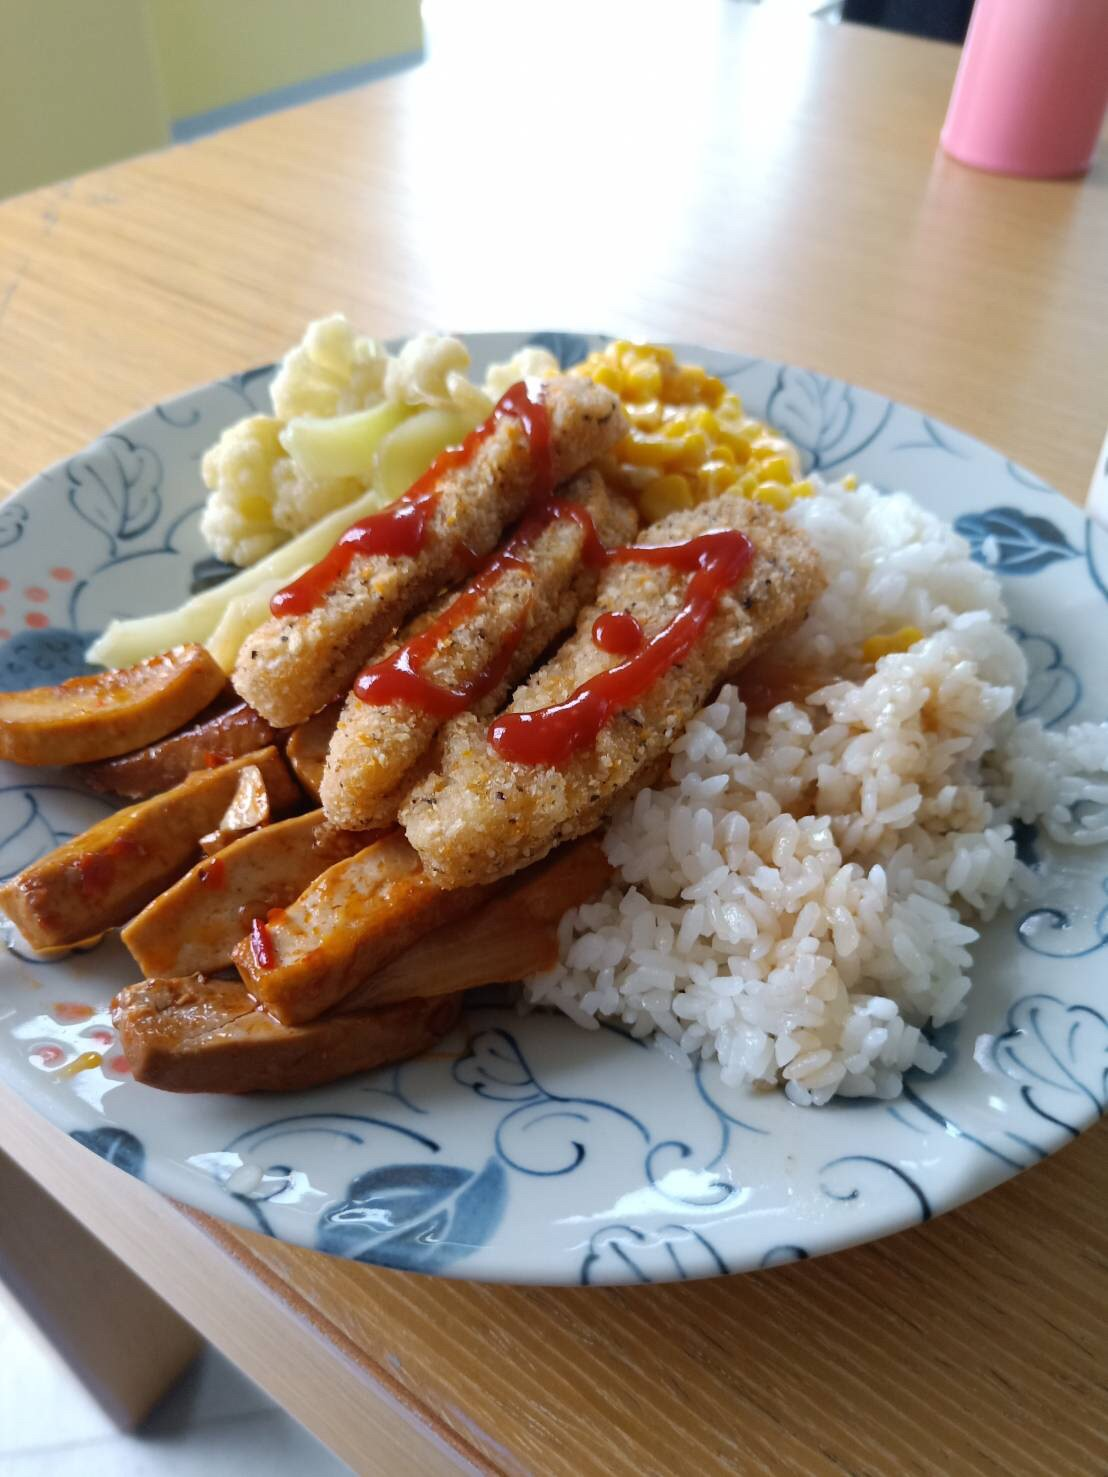rice: (576, 482, 1067, 1096)
